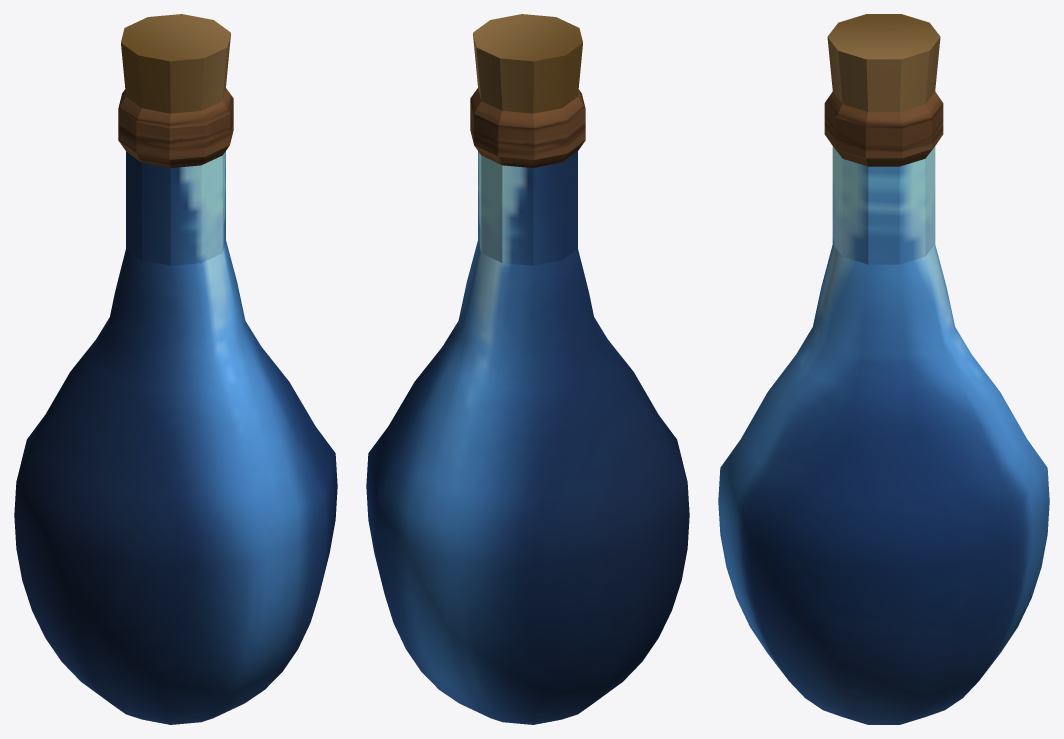
The model's file is Potion1.fbx.
The picture shows the model from 3 angles, left to right: view 1: azimuth 30°, elevation 25°; view 2: azimuth 150°, elevation 25°; view 3: azimuth 270°, elevation 25°; orthographic projection.
Visible parts, largest first — view 1: Bottle_02; view 2: Bottle_02; view 3: Bottle_02.
Part boxes in pixels (x1,y1,x2,y2): Bottle_02: (14, 14, 337, 724); Bottle_02: (366, 14, 689, 724); Bottle_02: (718, 14, 1049, 724).
Bounding box in the file's own units: 14.75 × 34.47 × 15.51.
Materials: 1 (1 with a texture image).
